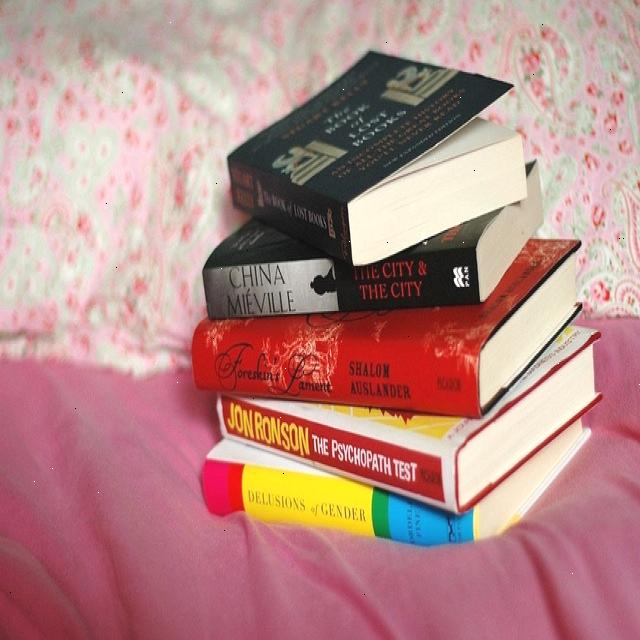book: (231, 45, 513, 199), (198, 331, 481, 410), (208, 250, 481, 322), (228, 155, 353, 260)
